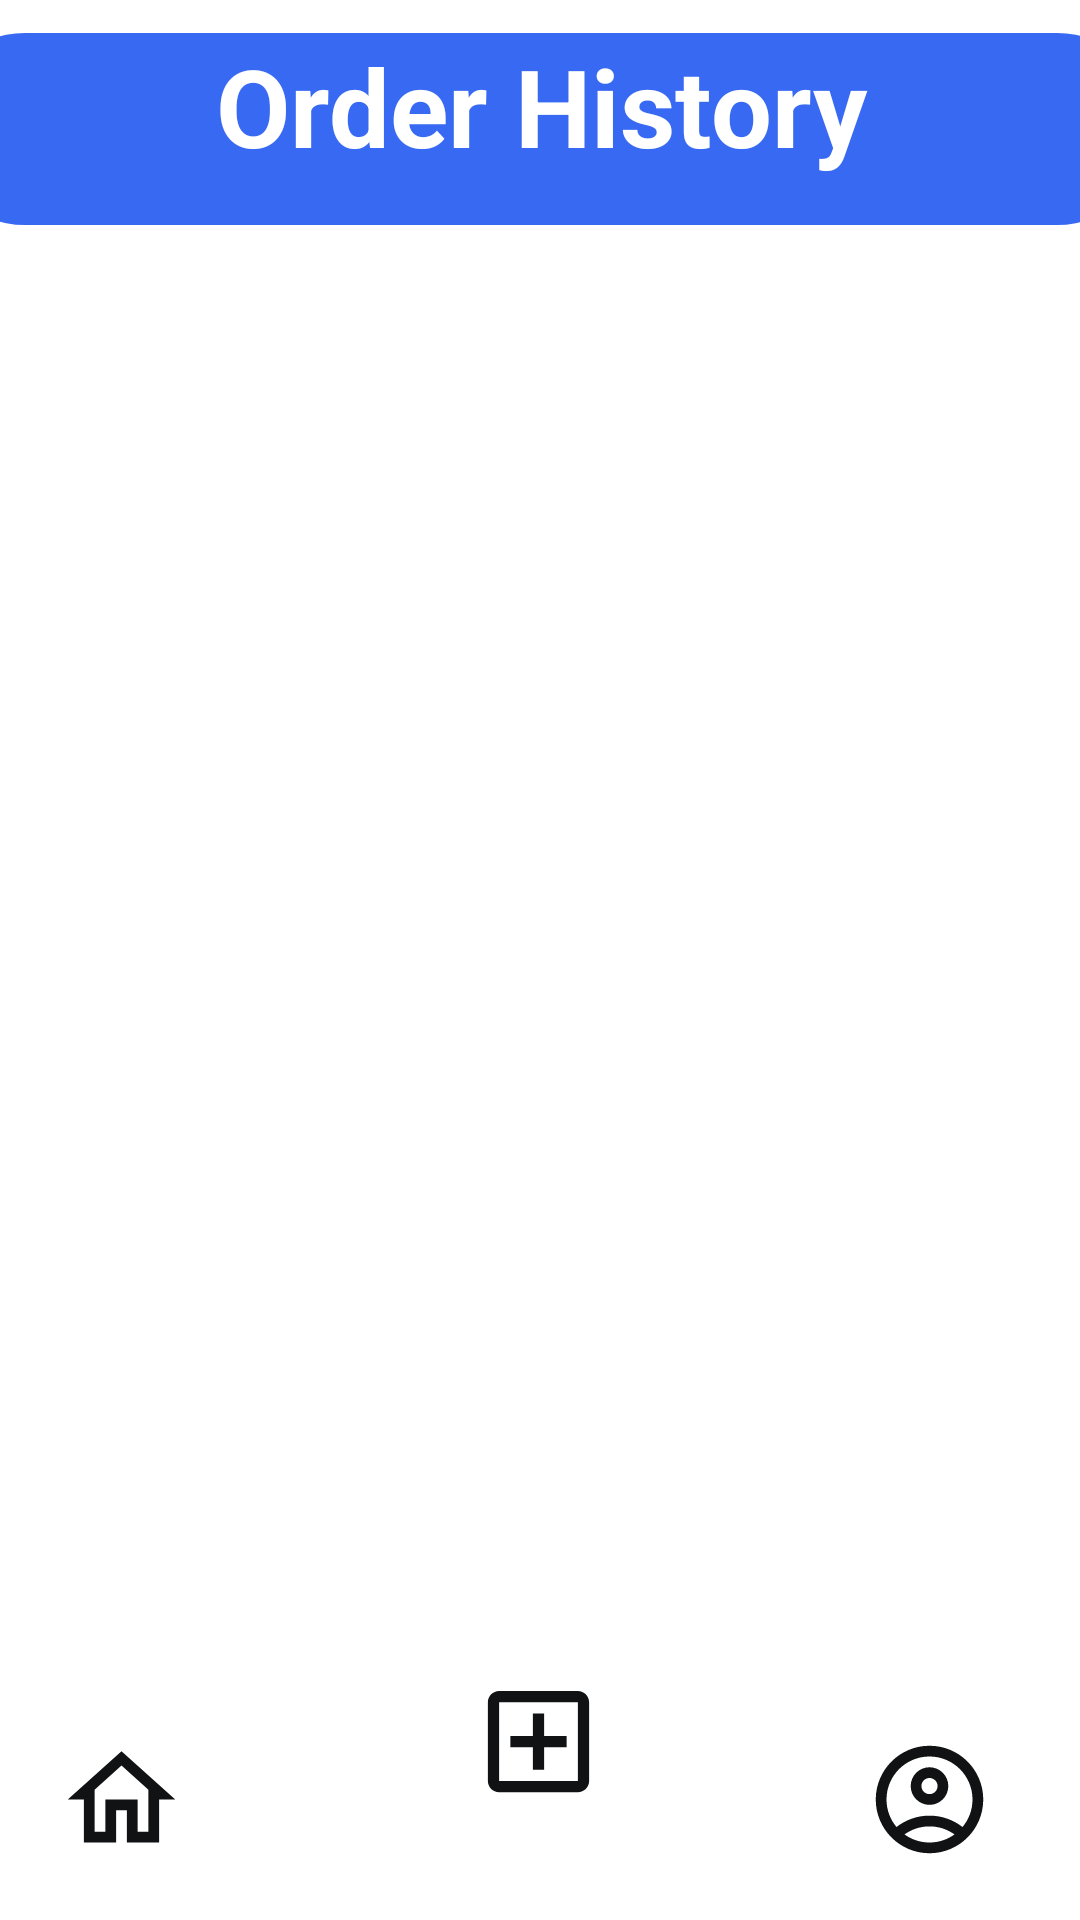

Point at icon controls on the screen. Image size 1080w x 1920h, points as (x=x, y=y).
account circle: (x=929, y=1799)
add box: (x=538, y=1742)
home: (x=121, y=1797)
